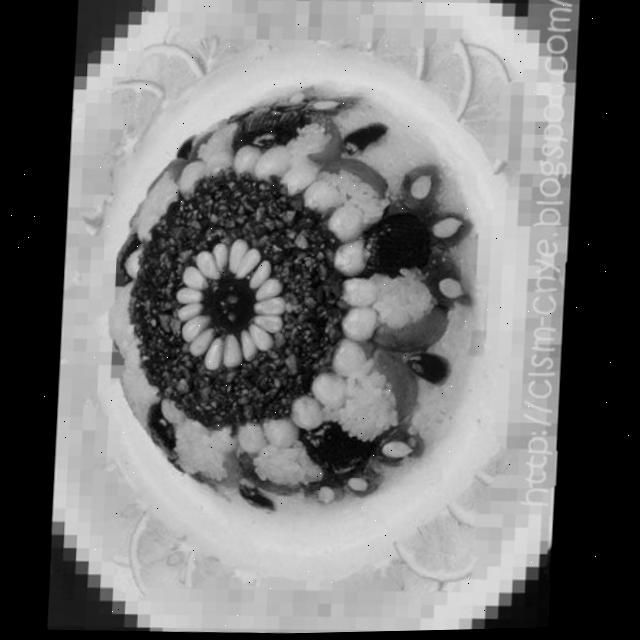米饭主食: (53, 5, 580, 614)
